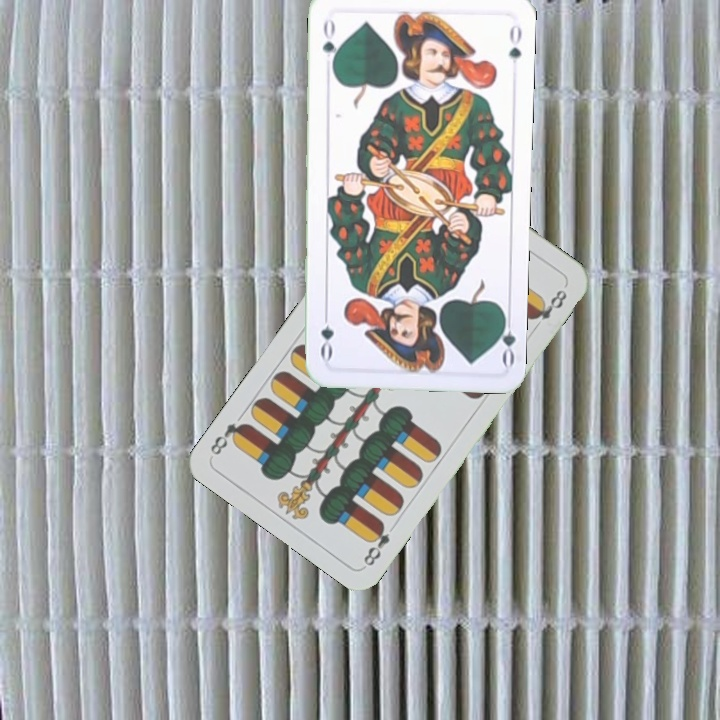E8: (359, 518, 393, 569)
GO: (491, 308, 518, 367), (319, 15, 341, 72)
